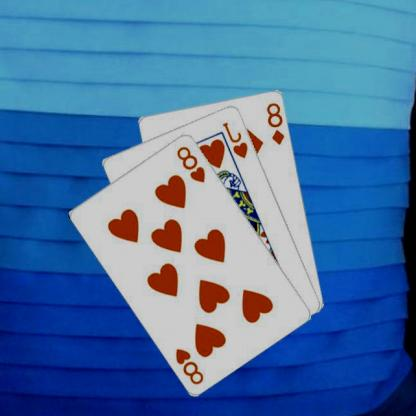8D: (266, 99, 288, 147)
8H: (174, 344, 207, 386), (176, 143, 209, 184)
JH: (222, 118, 252, 160)
